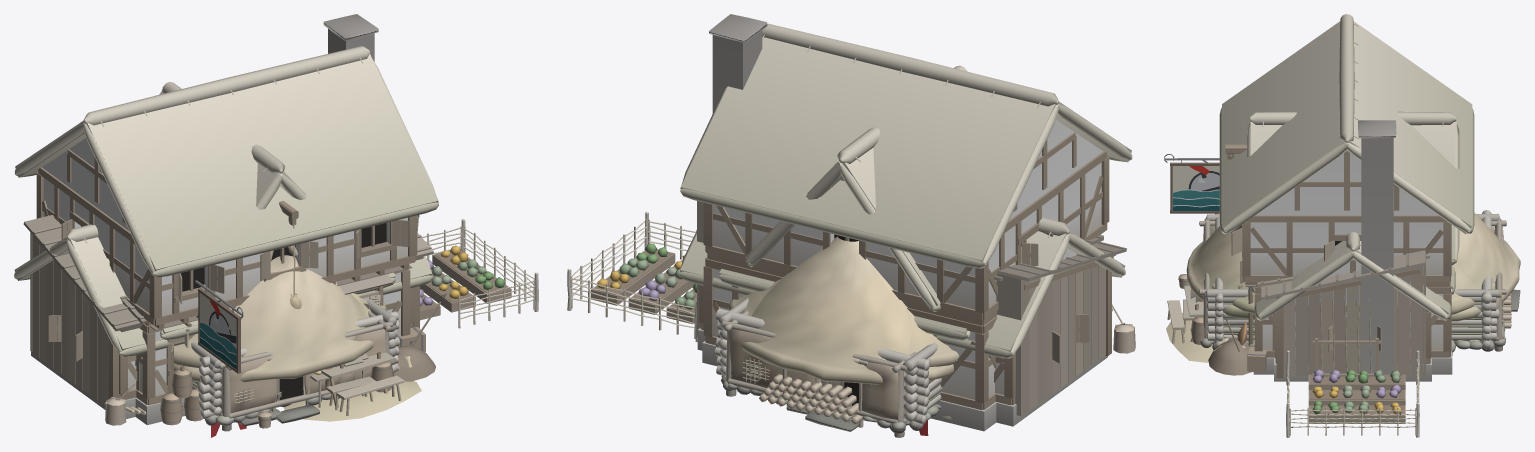
Rendered from town_kit.glb.
3 views of the same model, side by side, from view 1: azimuth 30°, elevation 25°; view 2: azimuth 150°, elevation 25°; view 3: azimuth 270°, elevation 25° (orthographic). The views are drawn at different scales.
Parts seen in each view (by area): view 1: town_tavern, town_street_house_a, town_infirmary, castle_barracks, town_street_house_b, town_granary, town_house_b, town_maud_house; view 2: town_tavern, town_street_house_a, town_infirmary, castle_barracks, town_street_house_b, town_granary, town_maud_house, town_house_b; view 3: town_tavern, castle_barracks, town_infirmary, town_street_house_a, town_street_house_b, town_granary, town_house_b, town_maud_house.
Boxes of the visible parts, x1=… form: town_tavern: x1=14, y1=14, x2=438, y2=425; town_street_house_a: x1=174, y1=245, x2=392, y2=431; town_infirmary: x1=14, y1=219, x2=538, y2=419; castle_barracks: x1=23, y1=215, x2=433, y2=406; town_street_house_b: x1=171, y1=293, x2=399, y2=426; town_granary: x1=159, y1=81, x2=306, y2=309; town_house_b: x1=105, y1=293, x2=446, y2=425; town_maud_house: x1=160, y1=272, x2=425, y2=351; town_tavern: x1=680, y1=14, x2=1132, y2=431; town_street_house_a: x1=722, y1=236, x2=953, y2=437; town_infirmary: x1=567, y1=212, x2=1125, y2=426; castle_barracks: x1=697, y1=201, x2=1126, y2=415; town_street_house_b: x1=714, y1=276, x2=959, y2=430; town_granary: x1=745, y1=65, x2=967, y2=311; town_maud_house: x1=719, y1=268, x2=970, y2=340; town_house_b: x1=1112, y1=304, x2=1135, y2=353; town_tavern: x1=1164, y1=14, x2=1474, y2=374; castle_barracks: x1=1261, y1=250, x2=1425, y2=378; town_infirmary: x1=1254, y1=232, x2=1451, y2=437; town_street_house_a: x1=1178, y1=213, x2=1520, y2=351; town_street_house_b: x1=1190, y1=210, x2=1511, y2=351; town_granary: x1=1221, y1=111, x2=1459, y2=265; town_house_b: x1=1208, y1=314, x2=1251, y2=375; town_maud_house: x1=1240, y1=261, x2=1455, y2=372.
Size of the model in its own units: 11.3 by 8.71 by 8.8.
